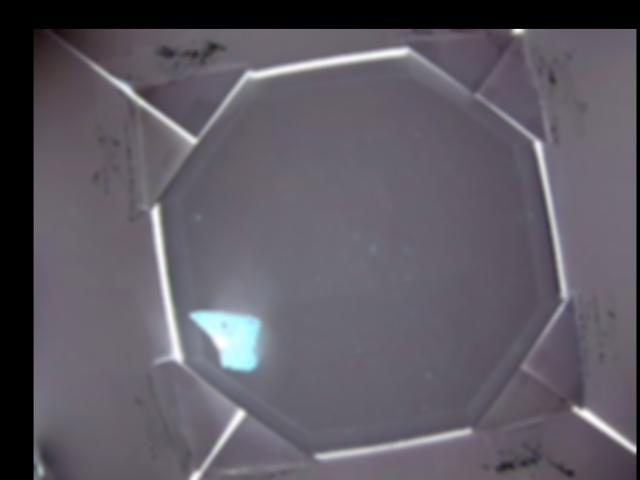Brisk: (185, 309, 260, 370)
